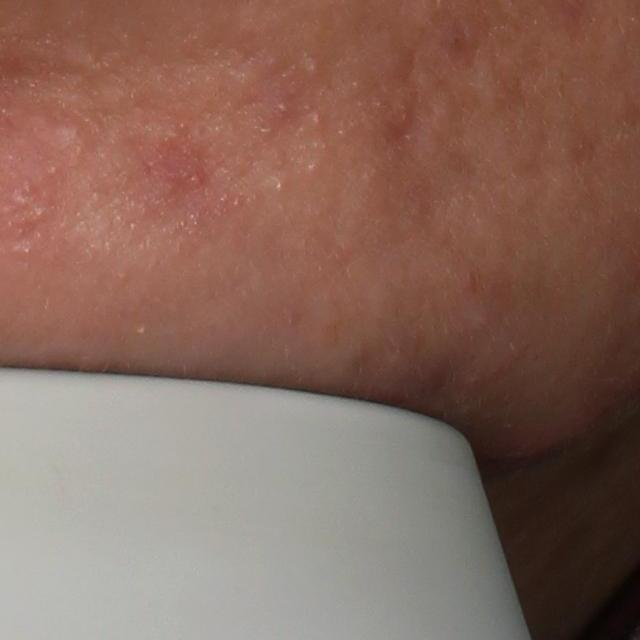comedo: (275, 179, 288, 194)
